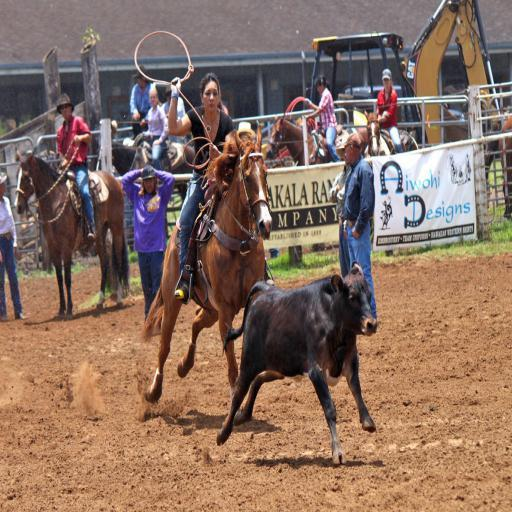horse: (140, 123, 273, 409), (13, 144, 131, 322), (266, 118, 352, 164), (365, 114, 420, 158)
